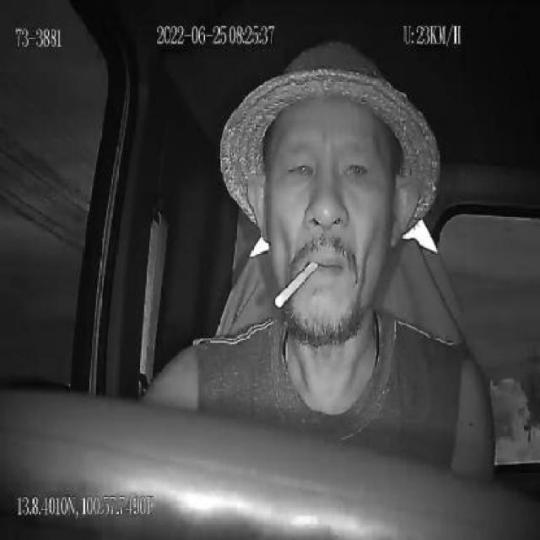smoking: (274, 260, 318, 310)
